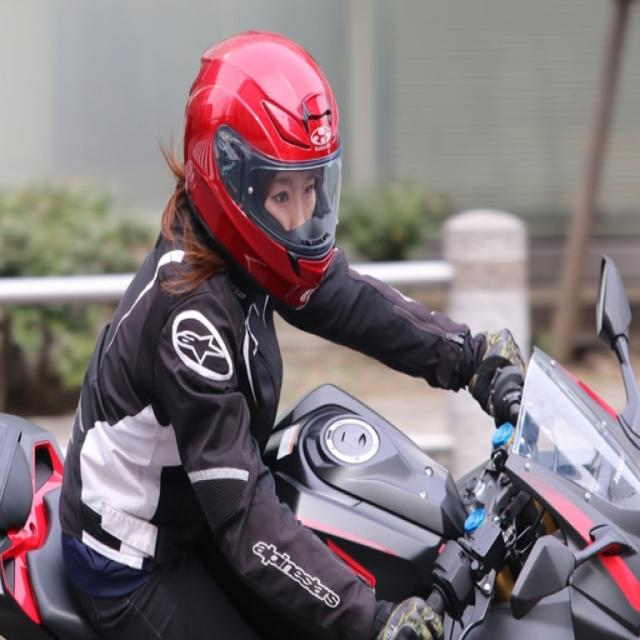helmet: (178, 21, 345, 322)
